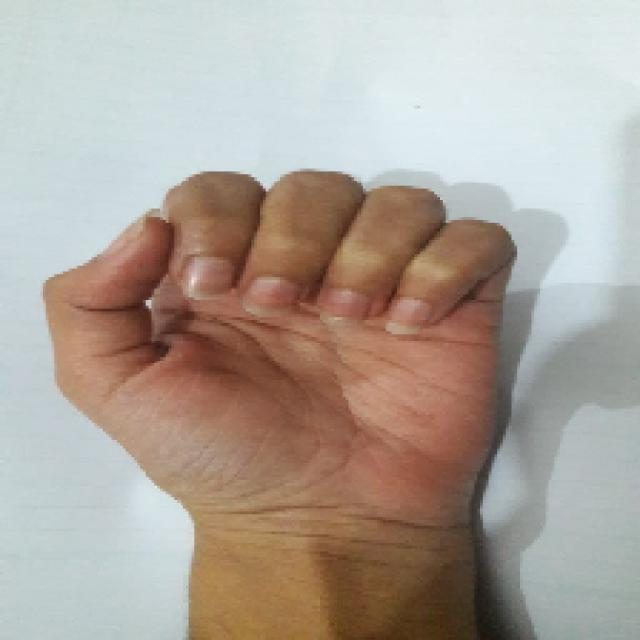Nail: (181, 255, 235, 301), (242, 276, 300, 318), (100, 211, 147, 255), (320, 289, 371, 328), (385, 298, 431, 335)
